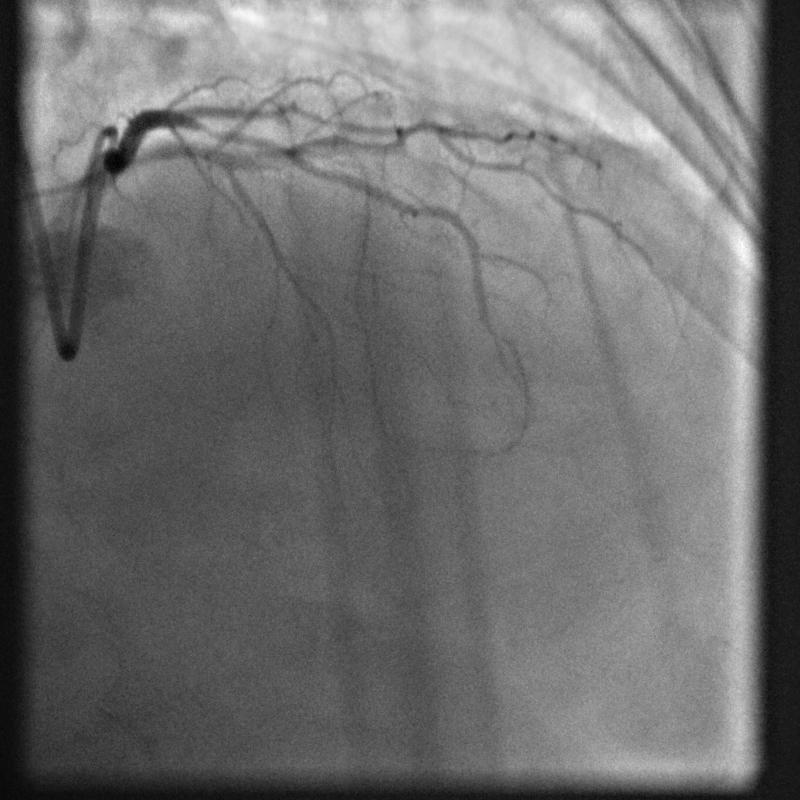Stenosis: (191, 117, 237, 141)
